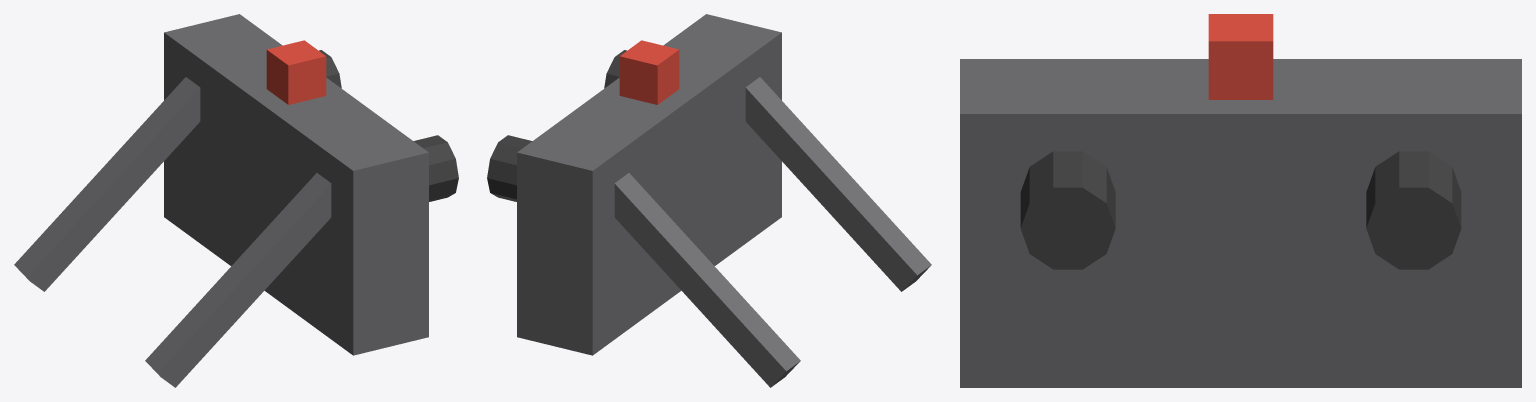
File: BufferStop.glb
3 views of the same model, side by side, from view 1: azimuth 30°, elevation 25°; view 2: azimuth 150°, elevation 25°; view 3: azimuth 270°, elevation 25° (orthographic). The views are drawn at different scales.
Visible parts, largest first — view 1: Buffer frame, Beam.129, Beam.130, Lamp, Buffer; view 2: Buffer frame, Beam.130, Beam.129, Lamp, Buffer.001; view 3: Buffer frame, Buffer, Buffer.001, Lamp.
Boxes of the visible parts, <box> form: Buffer frame: <box>164,14,428,355</box>; Beam.129: <box>145,173,331,387</box>; Beam.130: <box>14,77,200,291</box>; Lamp: <box>266,40,326,104</box>; Buffer: <box>413,135,458,201</box>; Buffer frame: <box>517,14,781,355</box>; Beam.130: <box>614,173,800,387</box>; Beam.129: <box>745,77,931,291</box>; Lamp: <box>619,40,679,104</box>; Buffer.001: <box>487,135,532,201</box>; Buffer frame: <box>960,59,1521,387</box>; Buffer: <box>1020,151,1115,269</box>; Buffer.001: <box>1366,151,1461,269</box>; Lamp: <box>1208,14,1273,99</box>.
Bounding box in the file's own units: 2.36 × 1.78 × 2.6.
